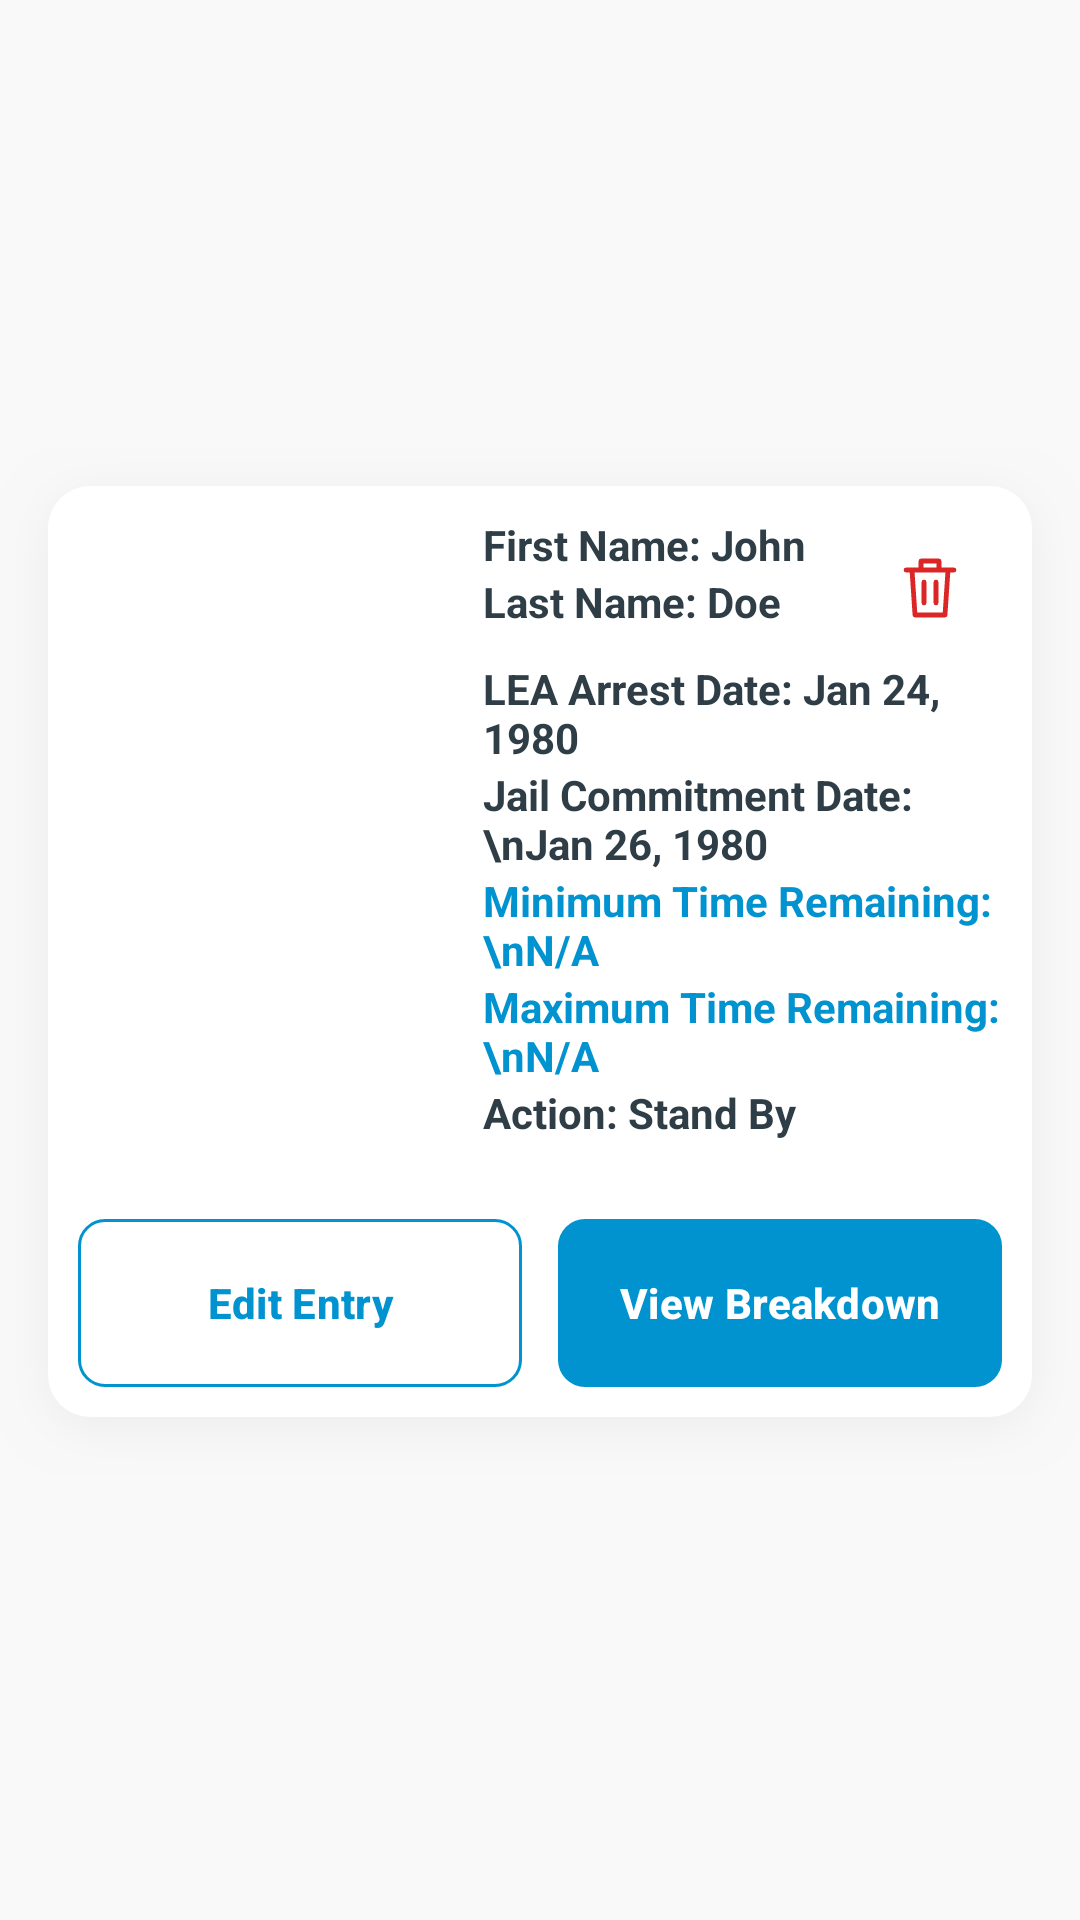

Named icons in this screenshot (1080px x 1920px) and their centers, (x=x, y=y):
Delete Entry: (x=930, y=588)
